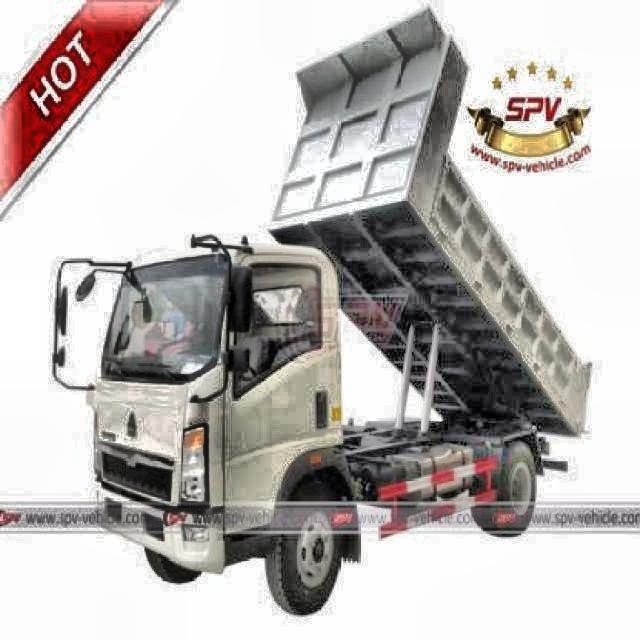dump_truck: (51, 0, 594, 622)
